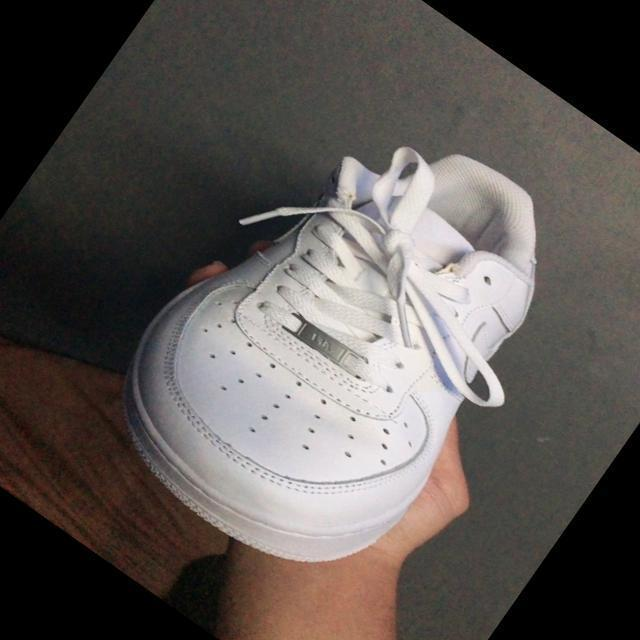nike fake air force: (62, 47, 608, 620)
